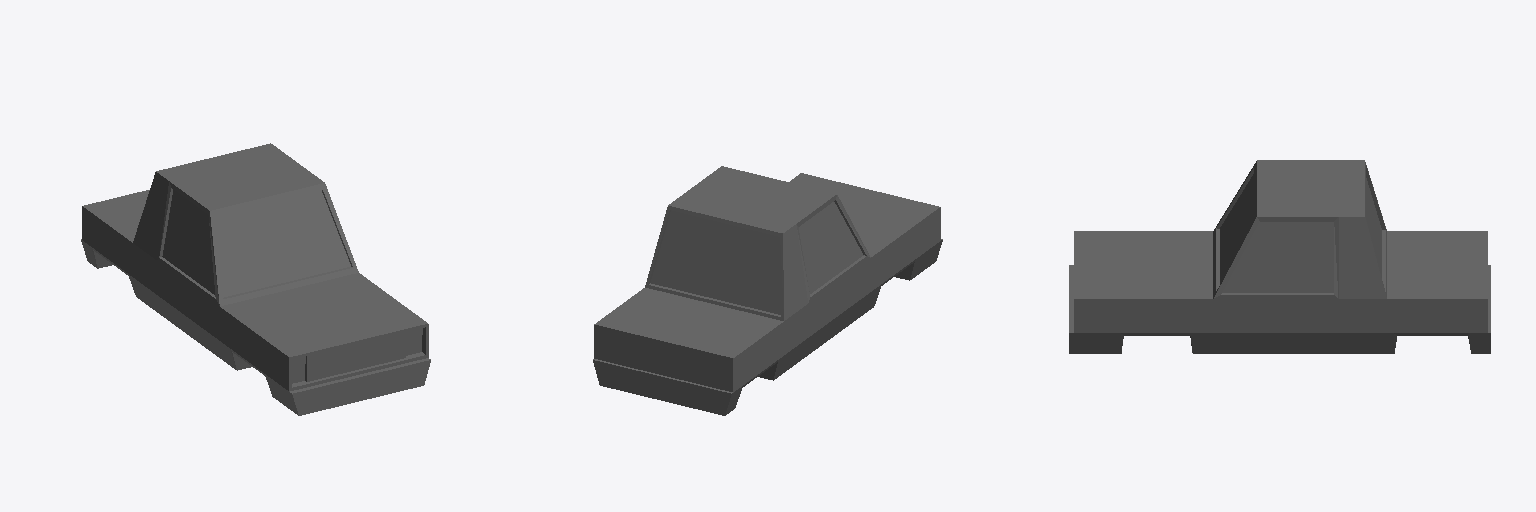
File: LP_Car_03.obj
3 renders of one model, left to right at view 1: azimuth 30°, elevation 25°; view 2: azimuth 150°, elevation 25°; view 3: azimuth 270°, elevation 25°, orthographic.
Visible parts, largest first — view 1: Box001; view 2: Box001; view 3: Box001.
Boxes of the visible parts, box(x1,y1,x2,y2) form: Box001: box(81, 143, 430, 415); Box001: box(593, 166, 942, 415); Box001: box(1069, 160, 1490, 353).
Bounding box in the file's own units: 21.03 × 19.5 × 55.29.